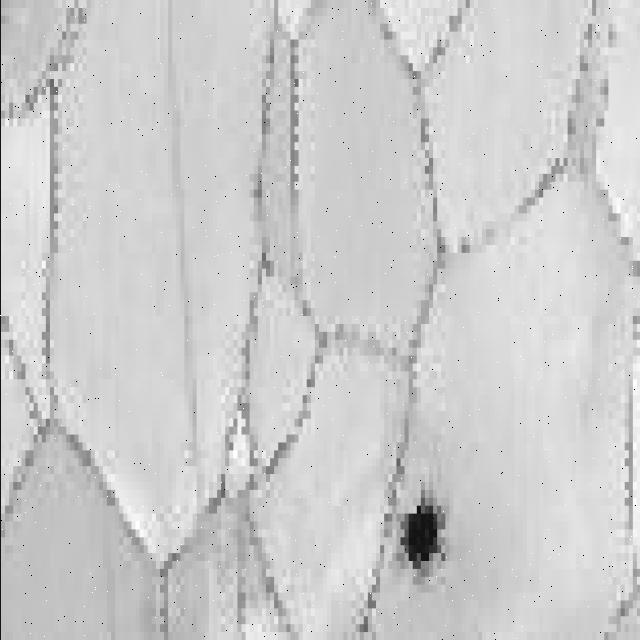good_void: (394, 482, 449, 583)
